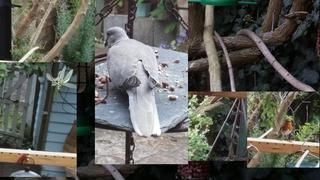collared dove: (104, 27, 161, 138)
robin: (277, 118, 293, 142)
